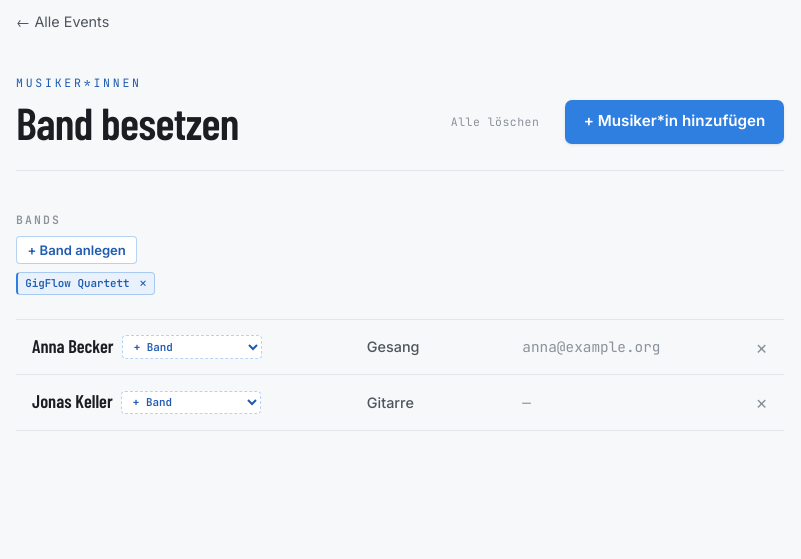
Scenario: MusicianListComponent › should create a band and show it in the list
Click the button with class "bands__add" at (77, 250), box [16,236,137,264]
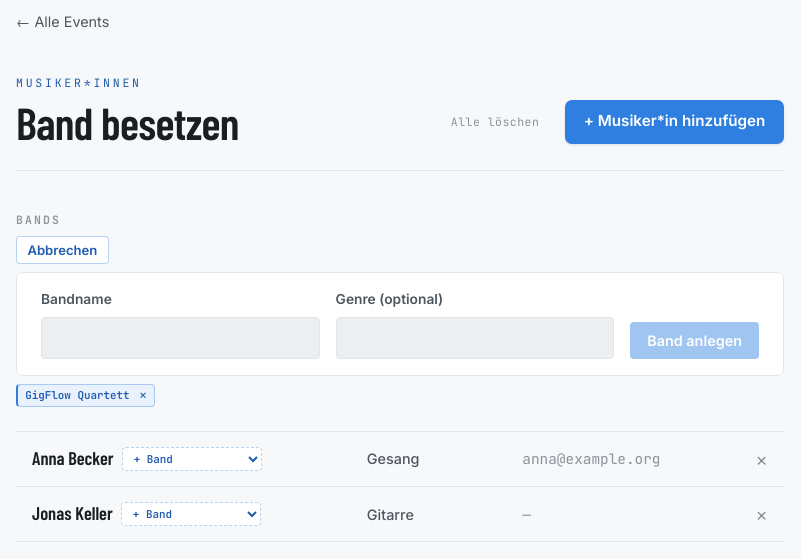
Type "Neue Band" into the field with class "field__input" showing "Bandname" at (180, 338), box [41,317,320,359]
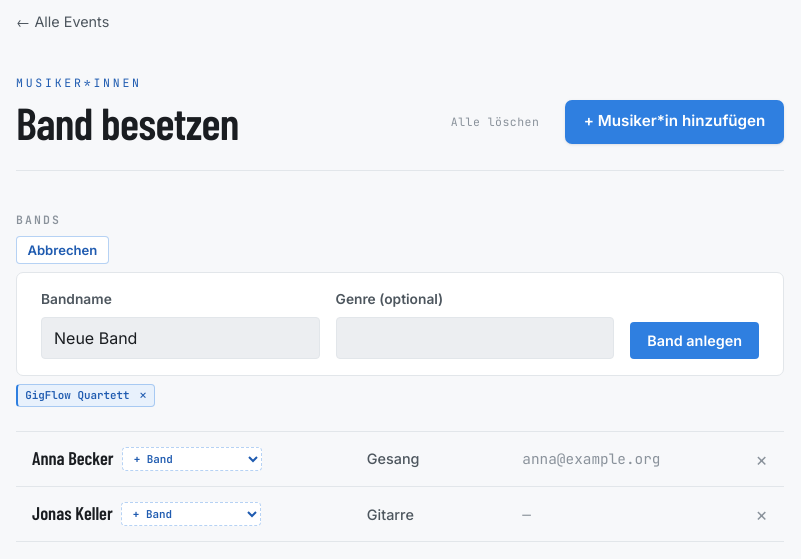
Click the button with class "band-form__submit" at (695, 340), box [630,322,759,359]
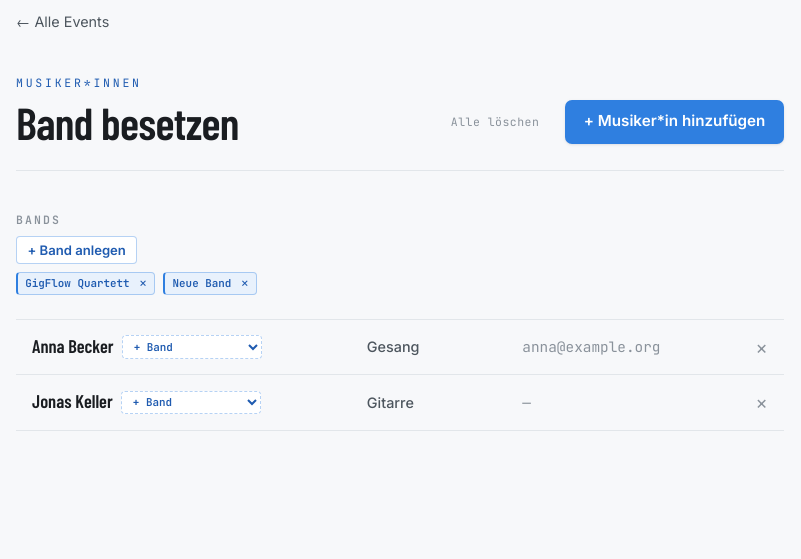
Expected: the text "Neue Band" is shown, [173,276,231,290]
Expected: the form with class "band-form" is gone
